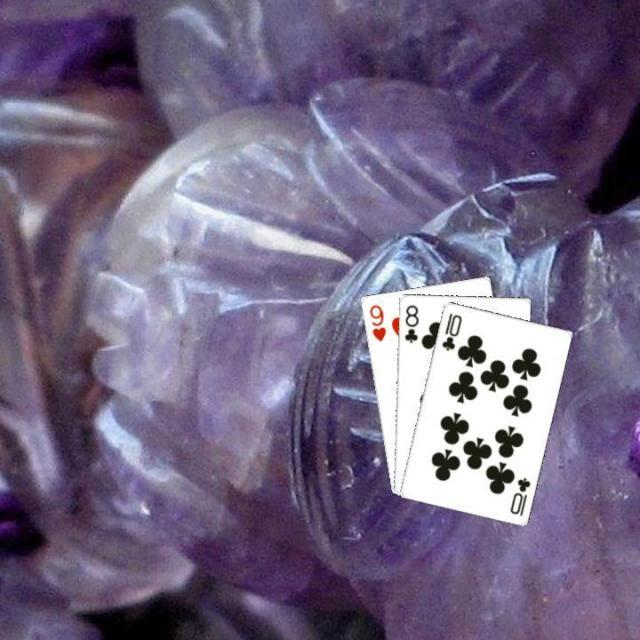10C: (506, 472, 532, 518), (437, 308, 463, 352)
8C: (400, 300, 420, 344)
9H: (366, 301, 388, 344)
